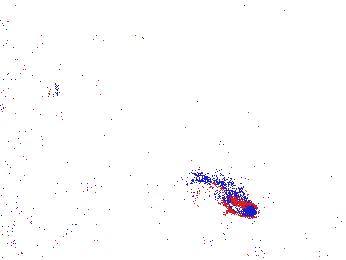red belly glassfish: (196, 172, 259, 220)
